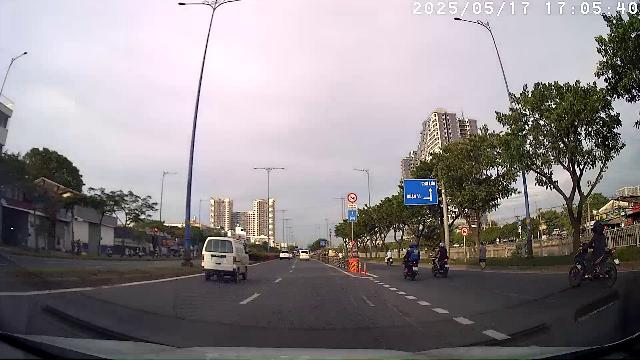103a-cam-oto: (461, 227, 469, 236)
